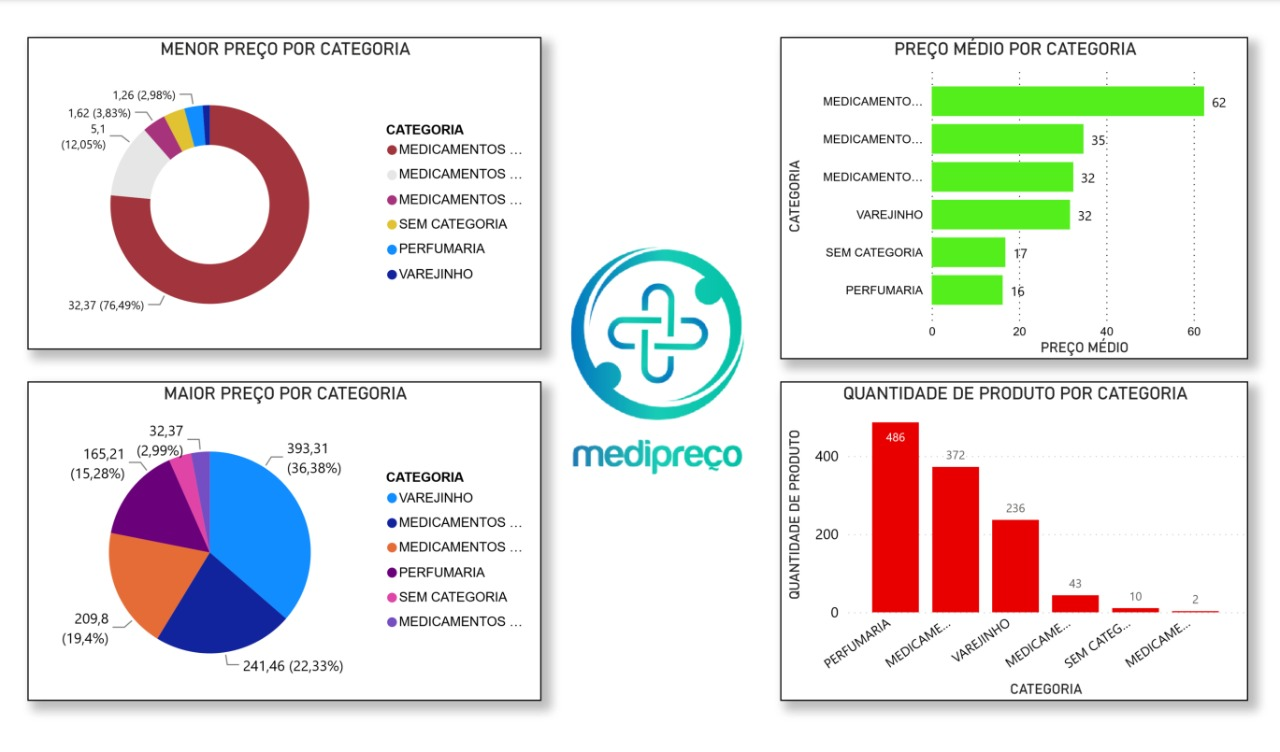

Layout of this report page (visuals, bound fields, positions):
{"tool":"powerbi","page":{"name":"Página 2","canvas":[1280,720],"ordinal":0},"visuals":[{"type":"donutChart","title":"MENOR PREÇO POR CATEGORIA","fields":{"Y":["Sum(dados vw_produtomenorpreco.MENORPRECO)"],"Category":["dados vw_produtomenorpreco.NOME"]},"box":[15.1,9.6,523,317.9],"z":0},{"type":"pieChart","title":"MAIOR PREÇO POR CATEGORIA","fields":{"Y":["Sum(dados vw_produtomaiorpreco.MAIORPRECO)"],"Category":["dados vw_produtomaiorpreco.NOME"]},"box":[15.1,360.6,523,324.8],"z":1000},{"type":"barChart","title":"PREÇO MÉDIO POR CATEGORIA","fields":{"Y":["Sum(dados vw_mediapreco.MEDIAPRECO)"],"Category":["dados vw_mediapreco.NOME"]},"box":[781.8,9.6,476.2,327.6],"z":2000},{"type":"columnChart","title":"QUANTIDADE DE PRODUTO  POR CATEGORIA","fields":{"Category":["dados vw_totalprodutocategoria.NOME"],"Y":["Sum(dados vw_totalprodutocategoria.QTDPRODUTO)"]},"box":[781.8,360.6,476.2,324.8],"z":3000},{"type":"image","box":[374.4,9.6,564.3,659.3],"z":4000}]}

Visuals, with their boxes in screenshot pixels (x1, y1, x2, y2):
"MENOR PREÇO POR CATEGORIA" donutChart: <bbox>22, 33, 537, 346</bbox>
"MAIOR PREÇO POR CATEGORIA" pieChart: <bbox>22, 379, 537, 699</bbox>
"PREÇO MÉDIO POR CATEGORIA" barChart: <bbox>778, 33, 1247, 356</bbox>
"QUANTIDADE DE PRODUTO  POR CATEGORIA" columnChart: <bbox>778, 379, 1247, 699</bbox>
image: <bbox>376, 33, 932, 683</bbox>
